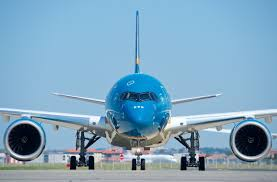maybay_dansu: (1, 21, 277, 172)
